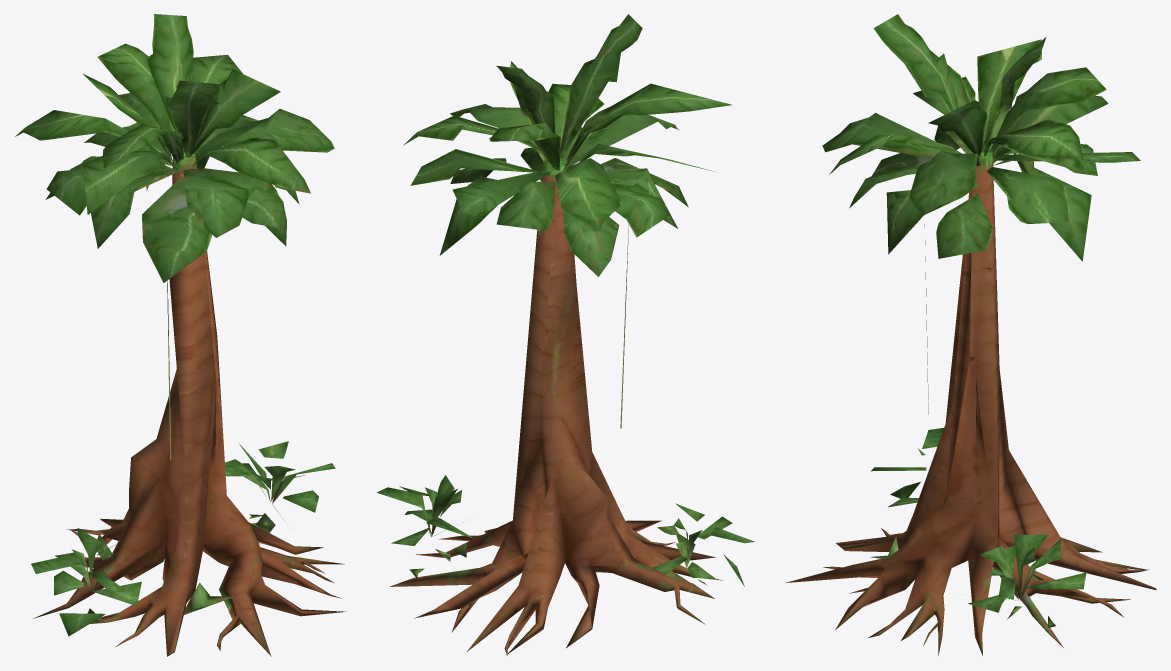
The model's file is tree_jungle_lo.glb.
3 views of the same model, side by side, from view 1: azimuth 30°, elevation 25°; view 2: azimuth 150°, elevation 25°; view 3: azimuth 270°, elevation 25° (orthographic).
Size of the model in its own units: 0.5977 by 0.9219 by 0.5625.
Materials: 1 (1 with a texture image).
